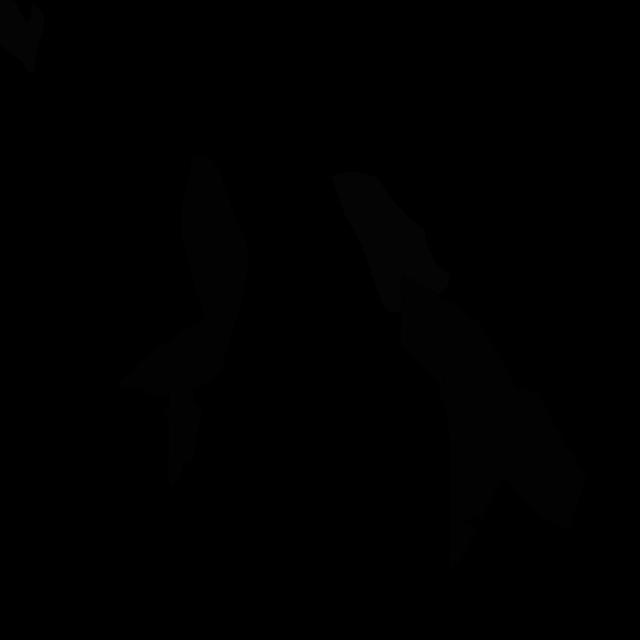cardboard: (116, 154, 248, 417), (438, 320, 518, 570), (504, 387, 587, 529), (400, 272, 478, 385), (168, 389, 202, 485), (442, 394, 467, 480)
soft_plastic: (331, 171, 451, 311), (0, 0, 45, 72)
